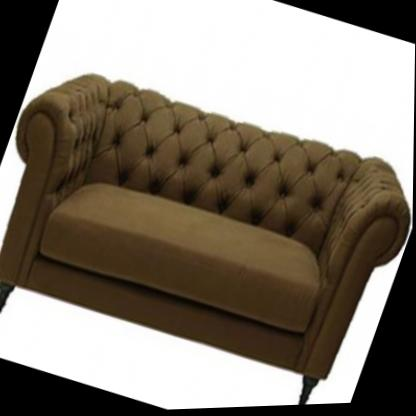Sofa: (0, 40, 415, 416)
